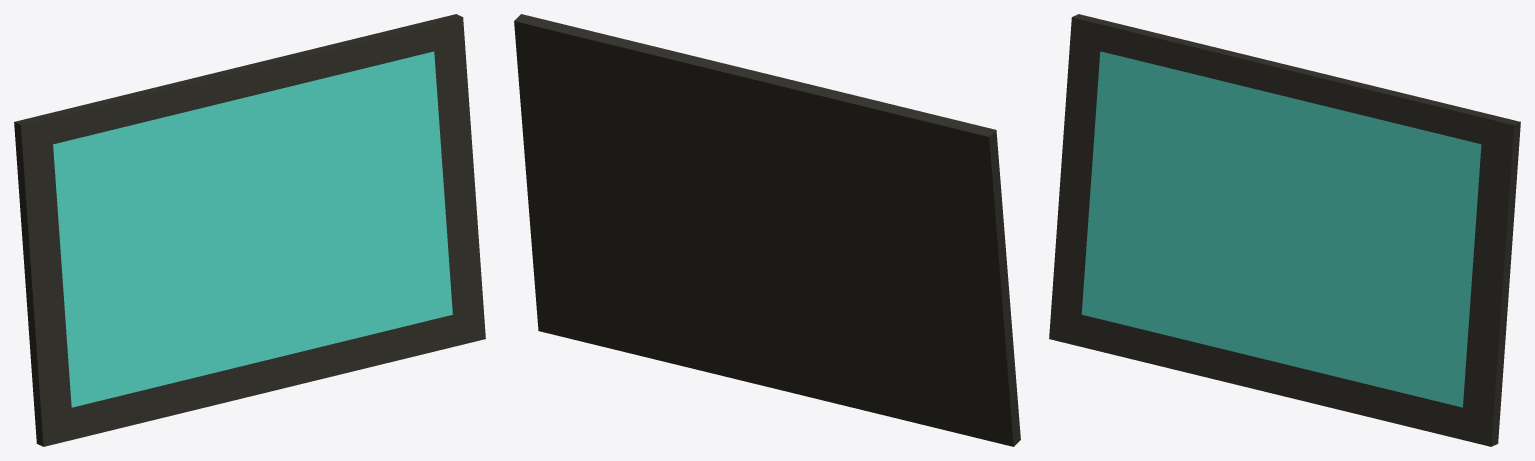
The model's file is Laptop_Screen.fbx.
3 renders of one model, left to right at view 1: azimuth 30°, elevation 25°; view 2: azimuth 150°, elevation 25°; view 3: azimuth 330°, elevation 25°, orthographic. The views are drawn at different scales.
Parts seen in each view (by area): view 1: FORK:laptop_up; view 2: FORK:laptop_up; view 3: FORK:laptop_up.
Part boxes in pixels (box(x1,y1,x2,y2)): FORK:laptop_up: box(14, 14, 485, 446); FORK:laptop_up: box(514, 14, 1020, 446); FORK:laptop_up: box(1049, 14, 1520, 446).
Size of the model in its own units: 48.12 by 31.89 by 5.56.
